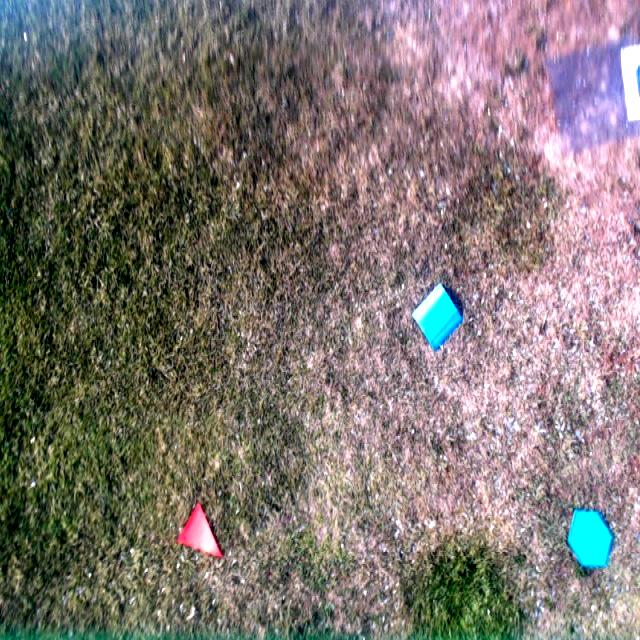blue_hexagon: (567, 504, 613, 572)
blue_square: (412, 280, 463, 350)
red_triangle: (175, 504, 224, 565)
